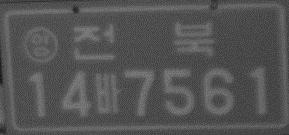1: (23, 70, 55, 119), (244, 65, 273, 116)
4: (60, 69, 90, 117)
5: (162, 68, 195, 116)
6: (201, 67, 235, 117)
7: (124, 69, 155, 117)
바: (94, 71, 121, 115)
영: (22, 26, 58, 63)
전북_D: (72, 21, 216, 62)
